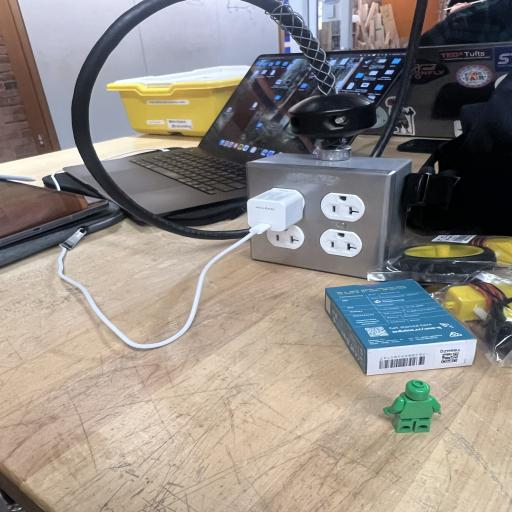green-lego-minifigure-detector: (383, 381, 440, 432)
